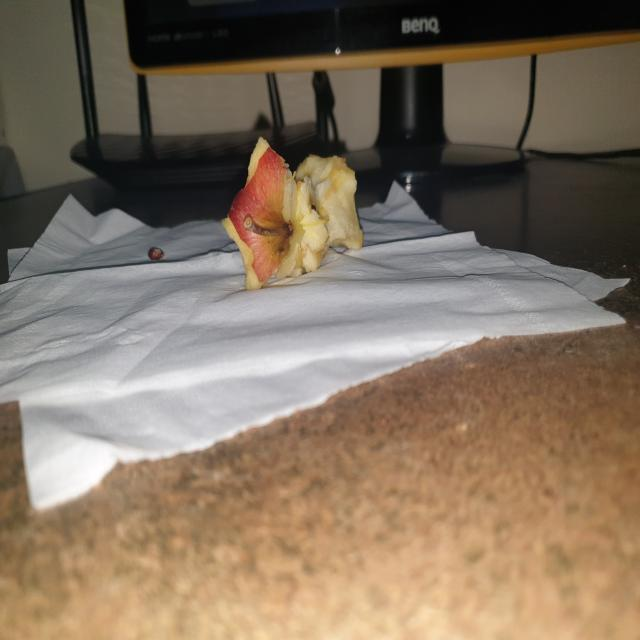apple: (218, 128, 378, 292)
